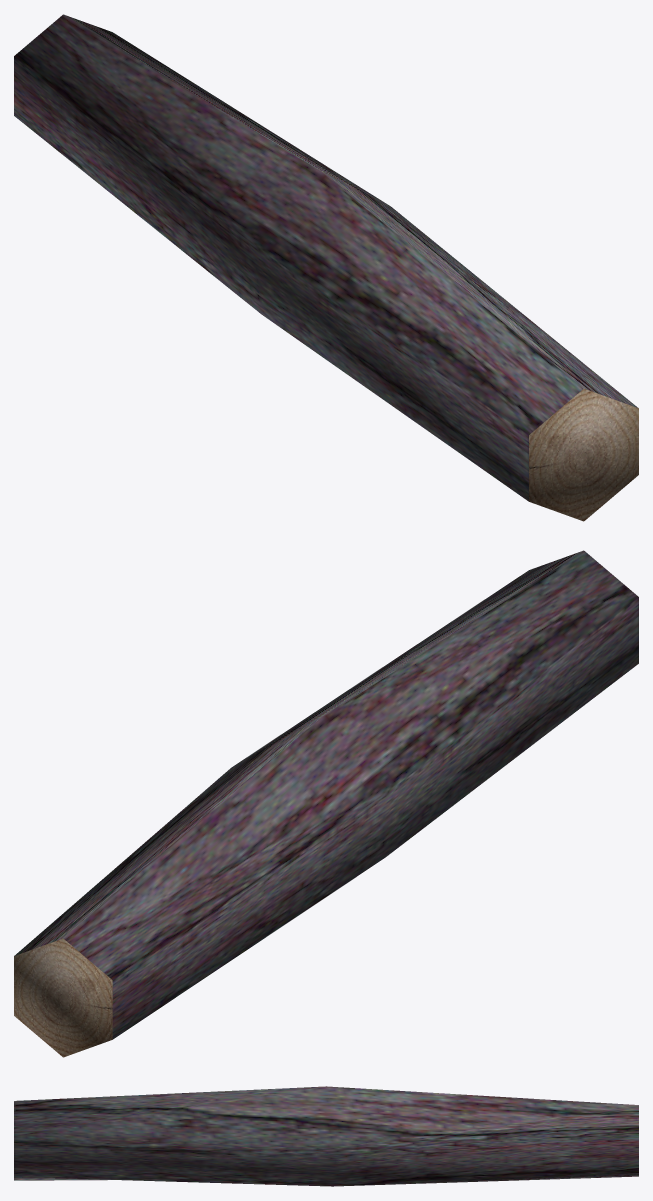
File: Tree_trunk_1.fbx
3 renders of one model, top to bottom at view 1: azimuth 30°, elevation 25°; view 2: azimuth 150°, elevation 25°; view 3: azimuth 270°, elevation 25°, orthographic. The views are drawn at different scales.
Visible parts, largest first — view 1: Tree_trunk_1; view 2: Tree_trunk_1; view 3: Tree_trunk_1.
Boxes of the visible parts, bbox=[...] form: Tree_trunk_1: bbox=[14, 14, 638, 521]; Tree_trunk_1: bbox=[14, 550, 638, 1057]; Tree_trunk_1: bbox=[14, 1086, 638, 1186].
Size of the model in its own units: 1.6 by 1.67 by 10.
